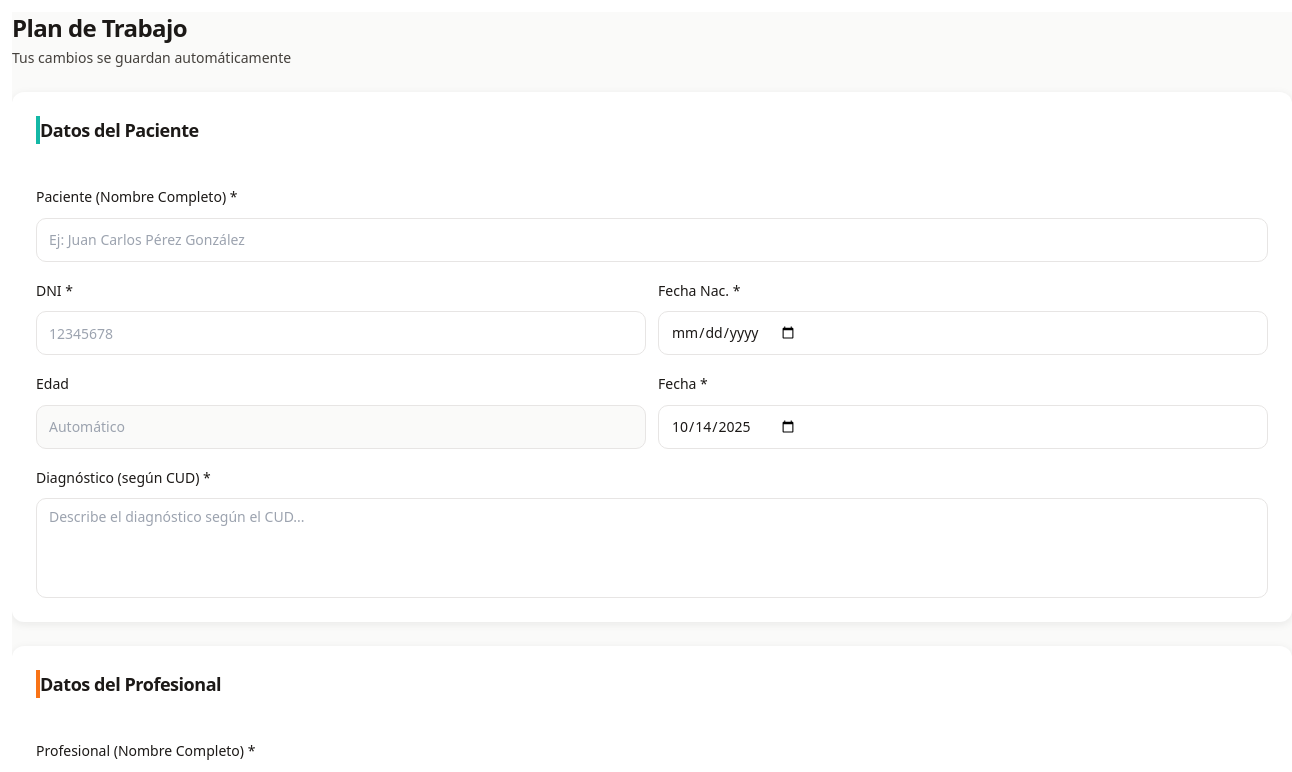
Scenario: WorkPlanForm › should validate DNI format
This screenshot has width=1292, height=772.
Ingresar DNI inválido (letras)
Type "ABC123" into the field labelled "DNI *" at coordinates (341, 333), box [36,311,646,355]
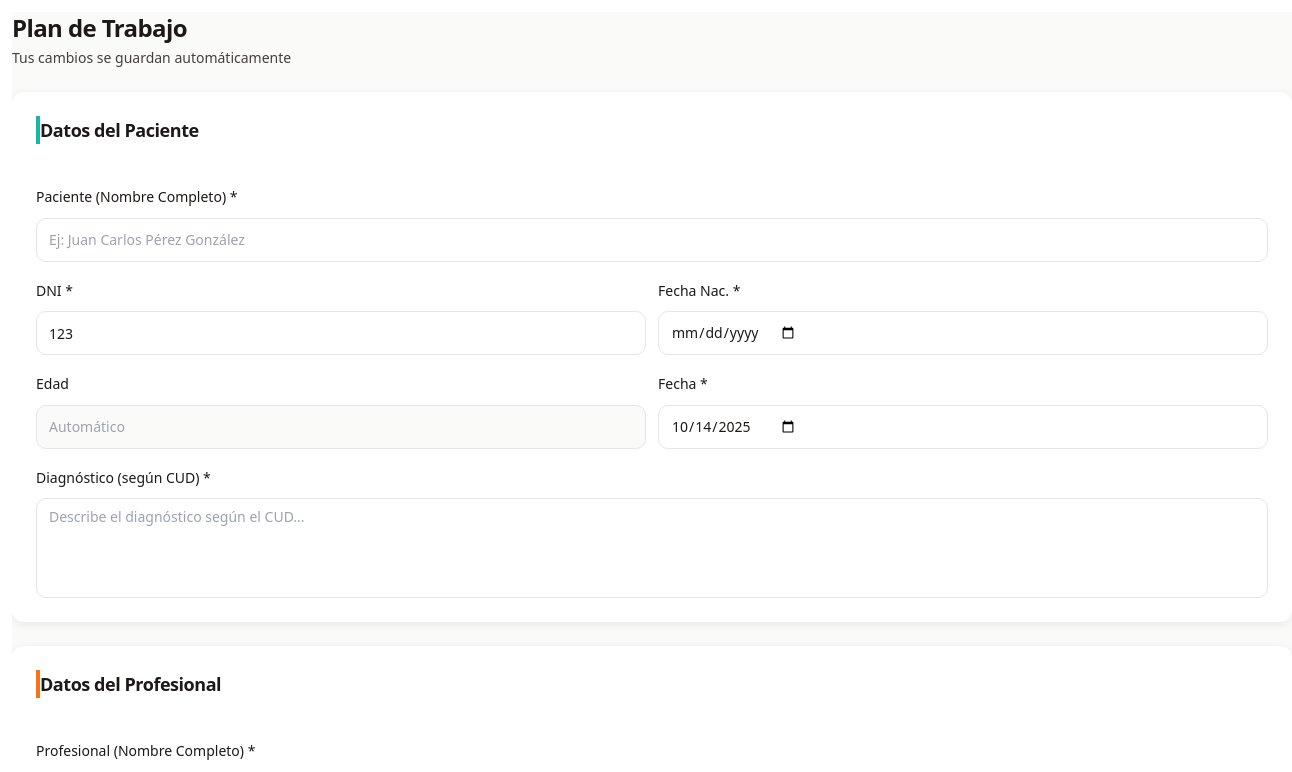
Expected: the field labelled "DNI *" does not hold "ABC123", [36,311,646,355]
